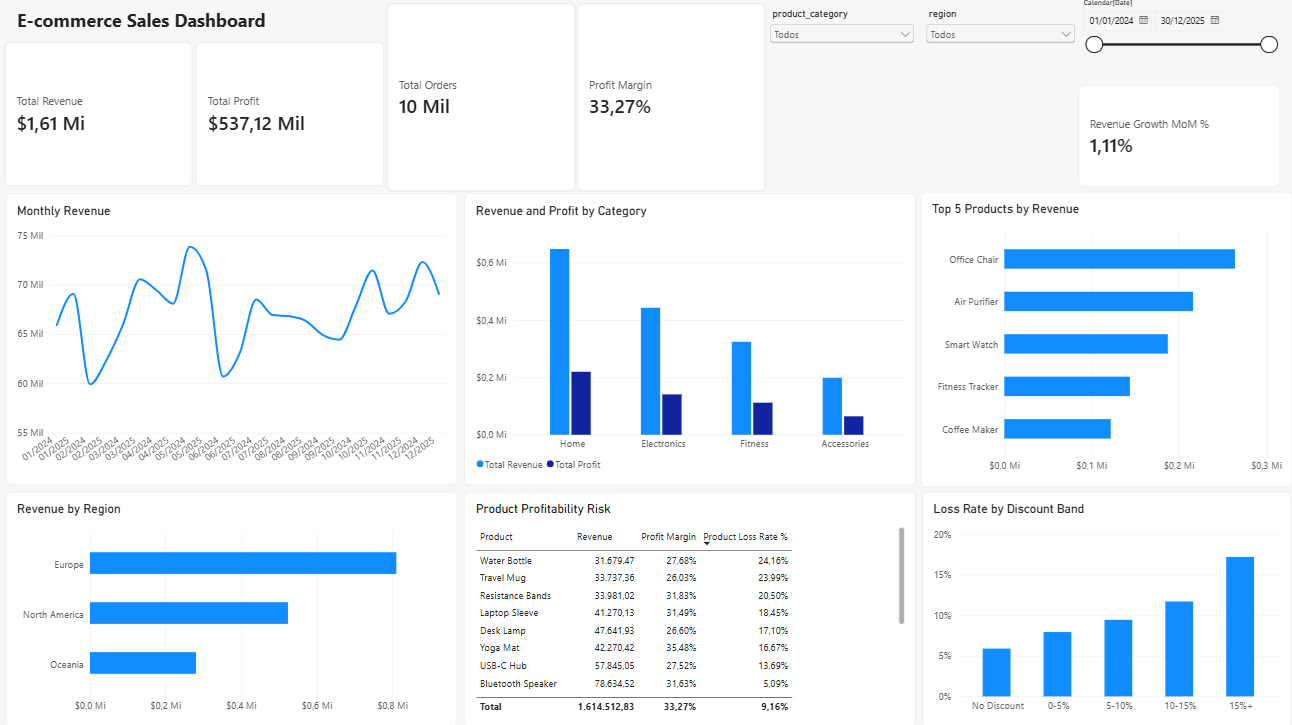

The dashboard page shown, as its layout file describes it:
{"tool":"powerbi","page":{"name":"Página 1","canvas":[1920,1080],"ordinal":0},"visuals":[{"type":"cardVisual","fields":{"Data":["ecommerce_orders_clean.Total Revenue"]},"box":[10.9,65.1,278.7,215.3],"z":0},{"type":"cardVisual","fields":{"Data":["ecommerce_orders_clean.Total Profit"]},"box":[295,65.1,280.5,215.3],"z":1000},{"type":"cardVisual","fields":{"Data":["ecommerce_orders_clean.Total Orders"]},"box":[577.1,6.6,280,280],"z":2000},{"type":"cardVisual","fields":{"Data":["ecommerce_orders_clean.Profit Margin"]},"box":[859,6.6,280,280],"z":3000},{"type":"lineChart","title":"Monthly Revenue","fields":{"Category":["Calendar.Month Year"],"Y":["Sum(ecommerce_orders_clean.revenue)"]},"box":[13.1,288.5,668.9,432.8],"z":4000},{"type":"clusteredBarChart","title":"Revenue by Region","fields":{"Category":["ecommerce_orders_clean.region"],"Y":["ecommerce_orders_clean.Total Revenue"]},"box":[13,732,669,348],"z":5000},{"type":"clusteredColumnChart","title":"Revenue and Profit by Category","fields":{"Category":["ecommerce_orders_clean.product_category"],"Y":["ecommerce_orders_clean.Total Revenue","ecommerce_orders_clean.Total Profit"]},"box":[692,289,669,433],"z":6000},{"type":"tableEx","title":"Product Profitability Risk","fields":{"Values":["ecommerce_orders_clean.product_name","Sum(ecommerce_orders_clean.revenue)","ecommerce_orders_clean.Profit Margin","ecommerce_orders_clean.Product Loss Rate %"]},"box":[692,732,669,348],"z":7000},{"type":"slicer","fields":{"Values":["ecommerce_orders_clean.region"]},"box":[1371.7,14.5,229.8,170.1],"z":8000},{"type":"slicer","fields":{"Values":["ecommerce_orders_clean.product_category"]},"box":[1140.1,14.5,223,190.2],"z":9000},{"type":"slicer","fields":{"Values":["ecommerce_orders_clean.order_date.Variation.Hierarquia de datas.Ano"]},"box":[1601.5,0,298.6,130.3],"z":10000},{"type":"textbox","box":[1371,904,549,176],"z":11000},{"type":"textbox","box":[30,15,700,50],"z":12000},{"type":"clusteredColumnChart","title":"Loss Rate by Discount Band","fields":{"Category":["ecommerce_orders_clean.Discount Band"],"Y":["ecommerce_orders_clean.Loss Rate %"]},"box":[1371,732,549,348],"z":13000},{"type":"barChart","title":"Top 5 Products by Revenue","fields":{"Category":["ecommerce_orders_clean.product_name"],"Y":["ecommerce_orders_clean.Total Revenue"]},"box":[1369.4,286.8,552.1,437.3],"z":14000},{"type":"cardVisual","fields":{"Data":["Calendar.Latest Month Revenue Growth %"]},"box":[1602,130,299,150],"z":15000}]}

Visuals, with their boxes in screenshot pixels (x1, y1, x2, y2), scaled from the page's 1920x1080 canvas onto the 1292x725 screenshot:
cardVisual - ecommerce_orders_clean.Total Revenue: <region>7, 44, 195, 188</region>
cardVisual - ecommerce_orders_clean.Total Profit: <region>199, 44, 387, 188</region>
cardVisual - ecommerce_orders_clean.Total Orders: <region>388, 4, 577, 192</region>
cardVisual - ecommerce_orders_clean.Profit Margin: <region>578, 4, 766, 192</region>
"Monthly Revenue" lineChart: <region>9, 194, 459, 484</region>
"Revenue by Region" clusteredBarChart: <region>9, 491, 459, 724</region>
"Revenue and Profit by Category" clusteredColumnChart: <region>466, 194, 916, 485</region>
"Product Profitability Risk" tableEx: <region>466, 491, 916, 724</region>
slicer - ecommerce_orders_clean.region: <region>923, 10, 1078, 124</region>
slicer - ecommerce_orders_clean.product_category: <region>767, 10, 917, 137</region>
slicer - ecommerce_orders_clean.order_date.Variation.Hierarquia de datas.Ano: <region>1078, 0, 1279, 87</region>
textbox: <region>923, 607, 1291, 724</region>
textbox: <region>20, 10, 491, 44</region>
"Loss Rate by Discount Band" clusteredColumnChart: <region>923, 491, 1291, 724</region>
"Top 5 Products by Revenue" barChart: <region>921, 193, 1291, 486</region>
cardVisual - Calendar.Latest Month Revenue Growth %: <region>1078, 87, 1279, 188</region>
